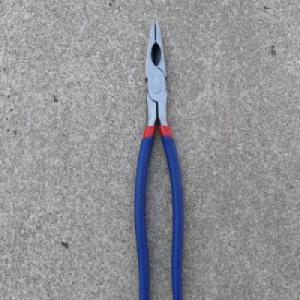Pliers: (132, 16, 185, 300)
